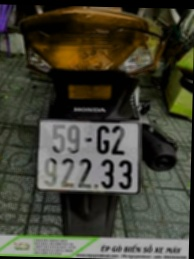Bien-so: (42, 115, 148, 200)
